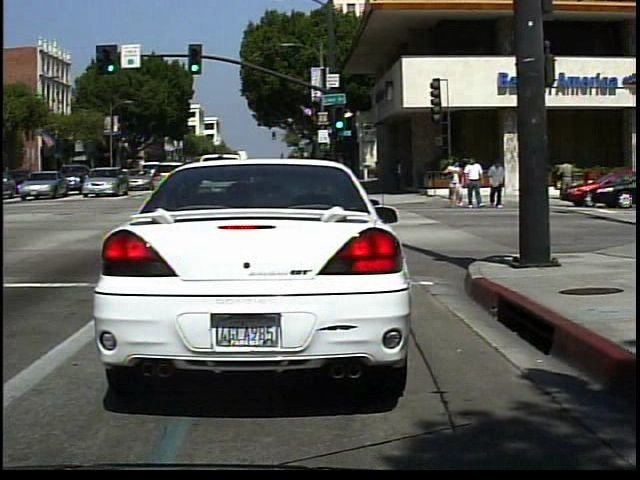person: (484, 158, 508, 212), (464, 155, 487, 209), (555, 156, 577, 204), (446, 158, 461, 210), (454, 165, 466, 210)
